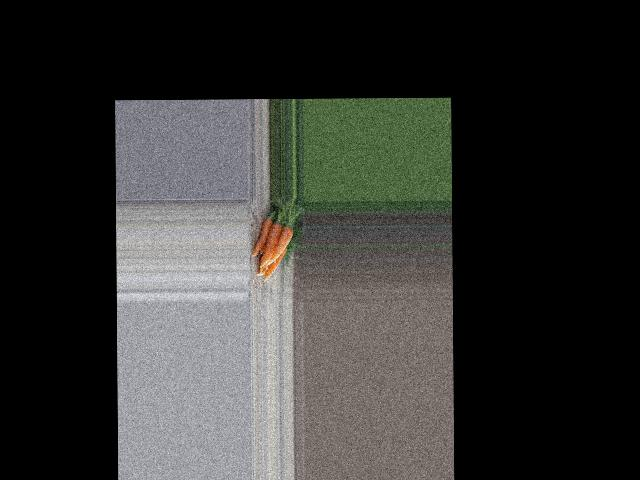carrot: (251, 217, 273, 261)
